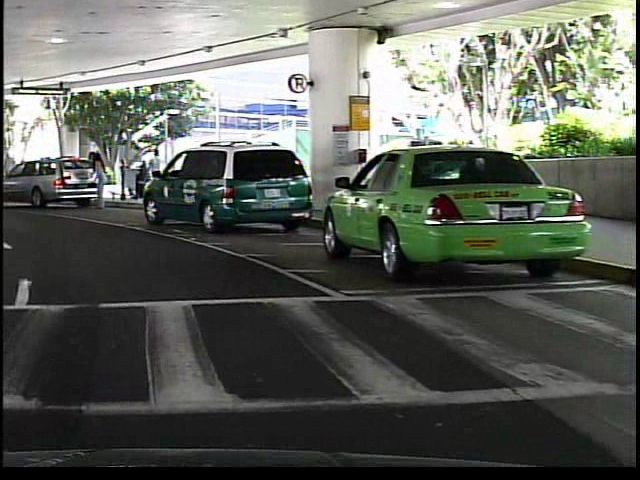person: (86, 149, 106, 209)
